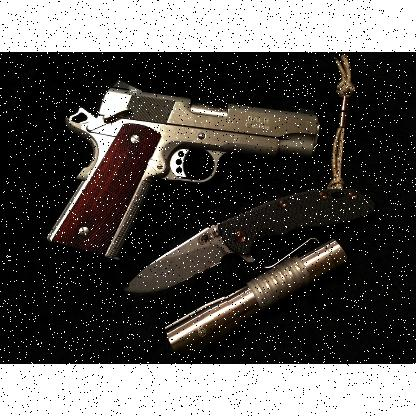gun: (46, 78, 320, 260)
